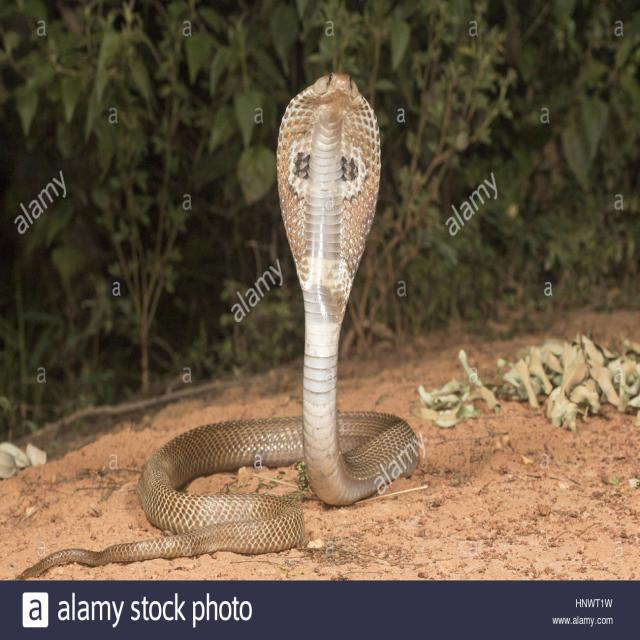Snake: (16, 71, 425, 578)
